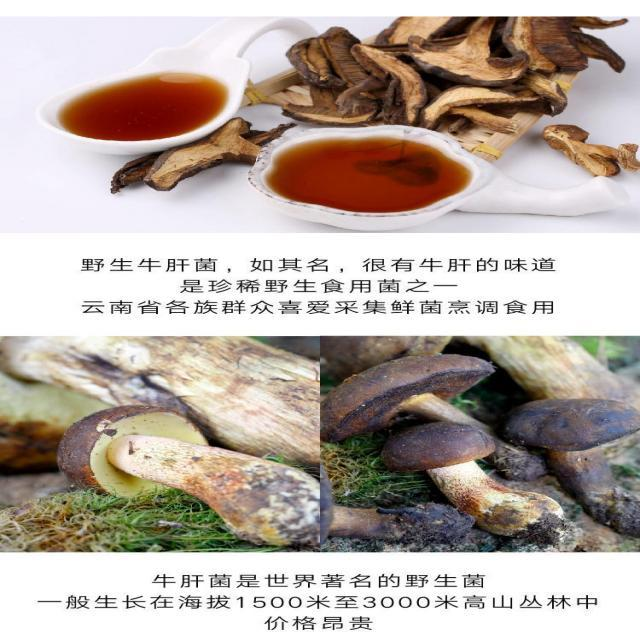Boletus: (63, 403, 316, 540), (334, 354, 547, 477), (385, 424, 565, 534), (521, 397, 640, 533)
